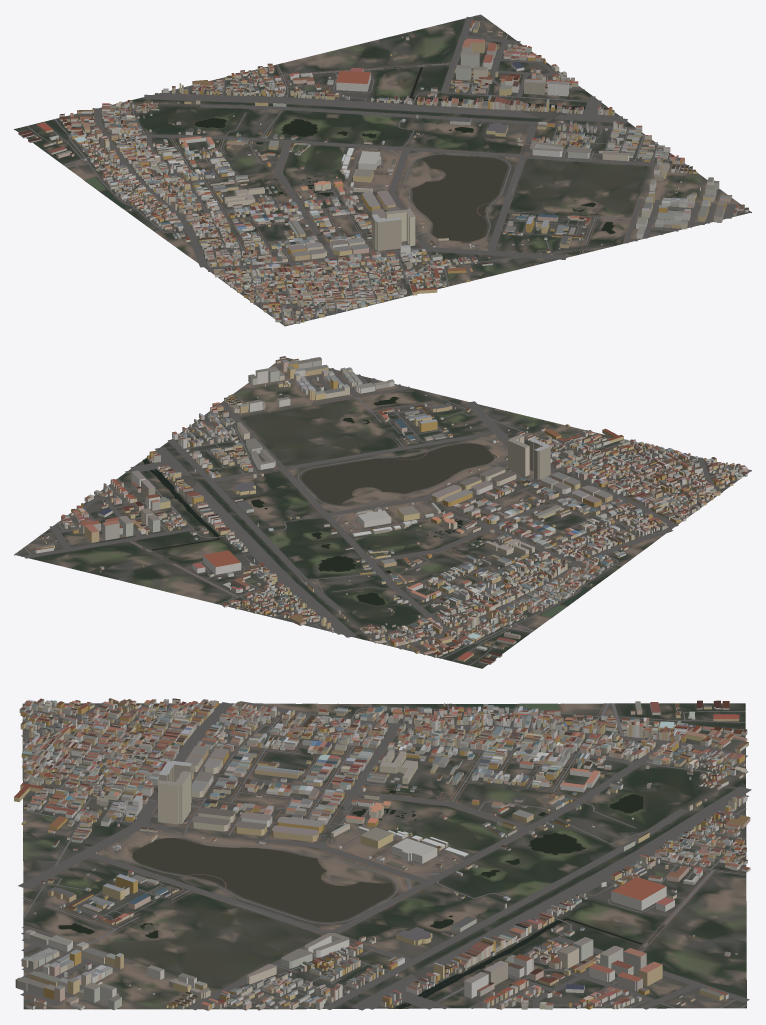
The picture shows the model from 3 angles, top to bottom: view 1: azimuth 30°, elevation 25°; view 2: azimuth 150°, elevation 25°; view 3: azimuth 270°, elevation 25°; orthographic projection. The views are drawn at different scales.
Visible parts, largest first — view 1: ground, buildings, roads, water; view 2: ground, buildings, roads, water; view 3: ground, buildings, roads, water.
Part boxes in pixels (left/top/right/bottom): ground: left=14, top=14, right=751, bottom=326; buildings: left=18, top=20, right=748, bottom=324; roads: left=26, top=15, right=735, bottom=325; water: left=84, top=38, right=615, bottom=241; ground: left=14, top=357, right=751, bottom=668; buildings: left=35, top=356, right=747, bottom=664; roads: left=16, top=365, right=750, bottom=665; water: left=46, top=396, right=589, bottom=617; ground: left=22, top=703, right=746, bottom=1009; buildings: left=14, top=698, right=750, bottom=1010; roads: left=18, top=701, right=751, bottom=1010; water: left=58, top=703, right=661, bottom=1008.
Bounding box in the file's own units: 1418 × 86.86 × 1431.
